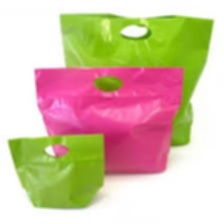plastic_bag: (46, 4, 218, 153), (26, 59, 190, 179), (9, 127, 111, 216)
